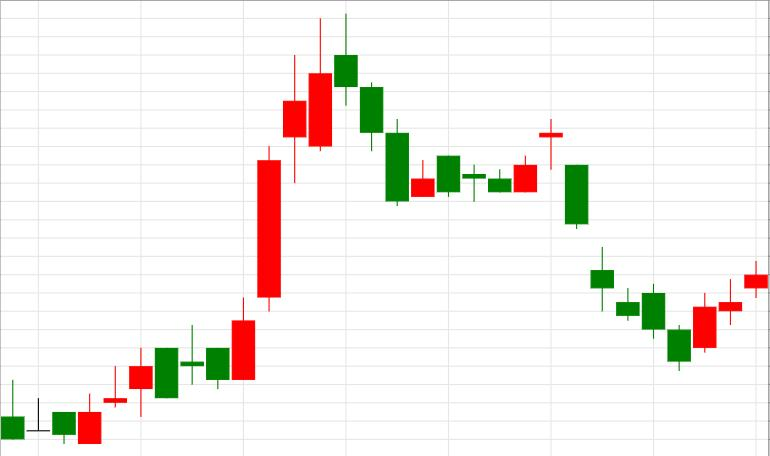three_black_crows_fall: (232, 14, 409, 380)
